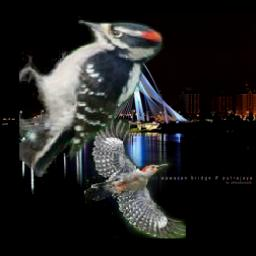Woodpecker: (19, 15, 166, 177), (84, 119, 186, 239)
